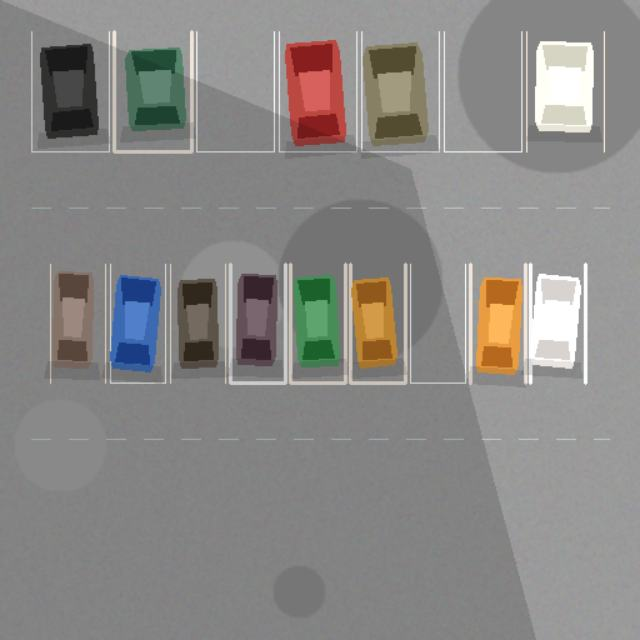space-empty: (196, 31, 274, 151), (444, 31, 521, 151), (410, 264, 465, 383)
space-occupied: (31, 31, 109, 151), (361, 31, 439, 151), (526, 31, 604, 151), (114, 31, 191, 151), (279, 31, 356, 151), (50, 264, 105, 383), (110, 264, 165, 383), (170, 264, 225, 383), (230, 264, 285, 383), (290, 264, 345, 383), (350, 264, 405, 383), (470, 264, 525, 383), (530, 264, 585, 383)
